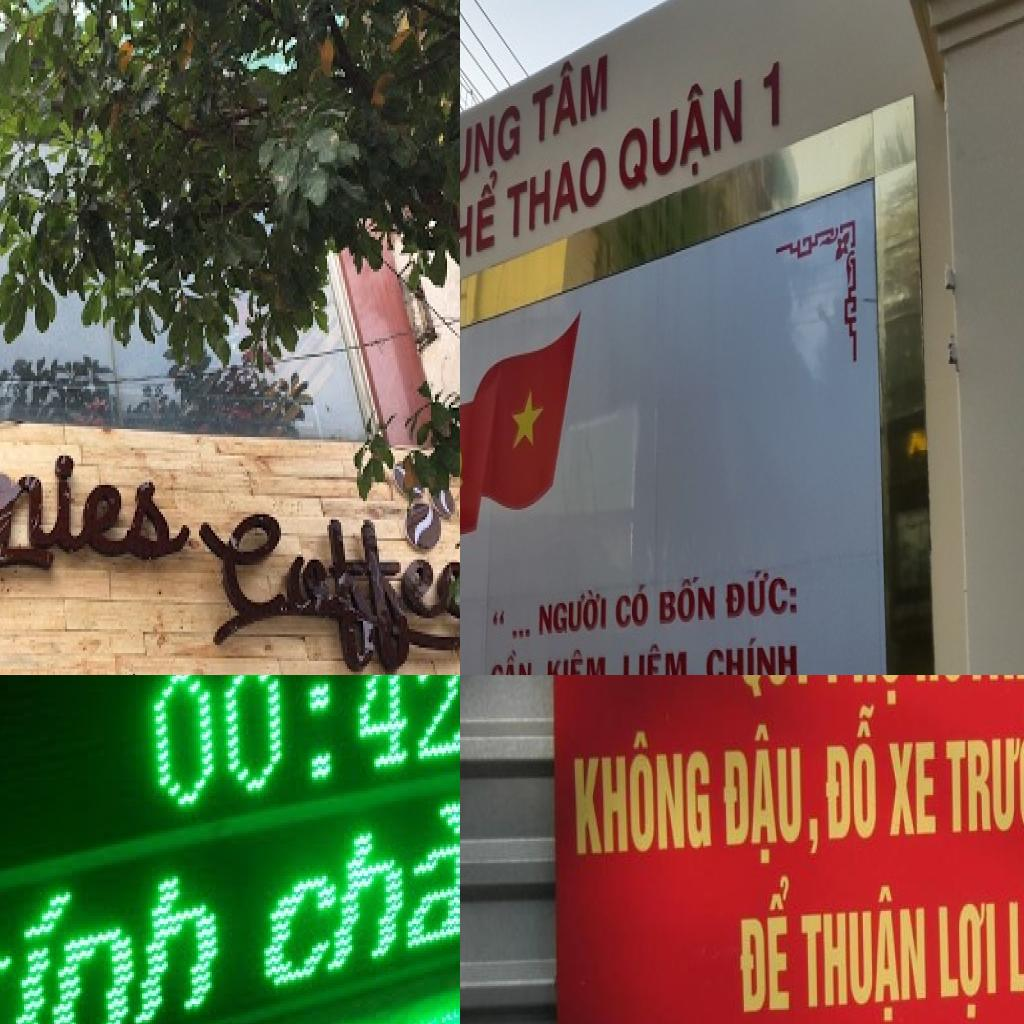text: (124, 675, 460, 838), (258, 777, 460, 1009), (189, 503, 460, 675), (0, 838, 246, 1024), (0, 405, 195, 615), (615, 52, 747, 213), (572, 725, 714, 860), (799, 878, 929, 1024), (721, 720, 823, 870), (503, 132, 610, 248), (945, 706, 1024, 837), (530, 37, 609, 153), (735, 872, 793, 1016), (822, 702, 880, 842), (937, 900, 999, 1024), (460, 95, 523, 211), (721, 560, 800, 628), (888, 739, 938, 839), (536, 579, 610, 644), (703, 629, 802, 675), (460, 164, 499, 278), (656, 568, 719, 633), (619, 634, 699, 675), (825, 675, 905, 709), (487, 601, 536, 654), (612, 575, 653, 637), (543, 642, 618, 675), (757, 52, 785, 140), (484, 644, 542, 675), (1007, 897, 1024, 996)
